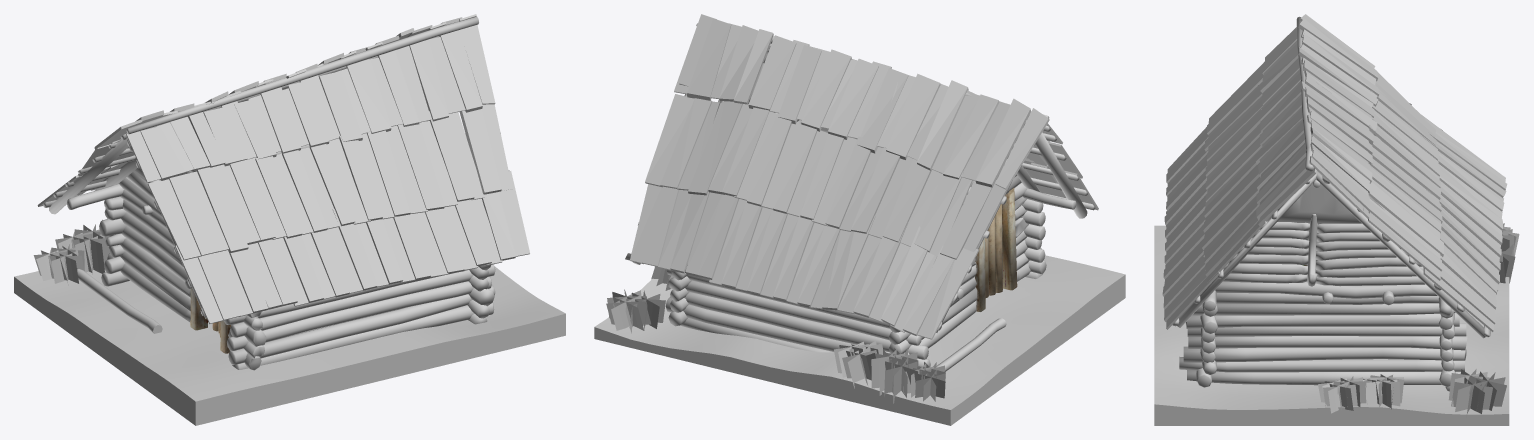
The model's file is medieval_village_house.fbx.
The picture shows the model from 3 angles, left to right: view 1: azimuth 30°, elevation 25°; view 2: azimuth 150°, elevation 25°; view 3: azimuth 270°, elevation 25°; orthographic projection. The views are drawn at different scales.
Parts seen in each view (by area): view 1: house1, ground, grass; view 2: house1, ground, grass; view 3: house1, ground, grass.
Part boxes in pixels (x1=…): house1: x1=37, y1=14, x2=530, y2=370; ground: x1=14, y1=266, x2=565, y2=425; grass: x1=33, y1=219, x2=110, y2=285; house1: x1=625, y1=14, x2=1098, y2=366; ground: x1=594, y1=255, x2=1125, y2=425; grass: x1=606, y1=266, x2=945, y2=403; house1: x1=1162, y1=14, x2=1507, y2=391; ground: x1=1154, y1=225, x2=1509, y2=425; grass: x1=1318, y1=223, x2=1519, y2=414.
Size of the model in its own units: 585 by 389 by 495.
